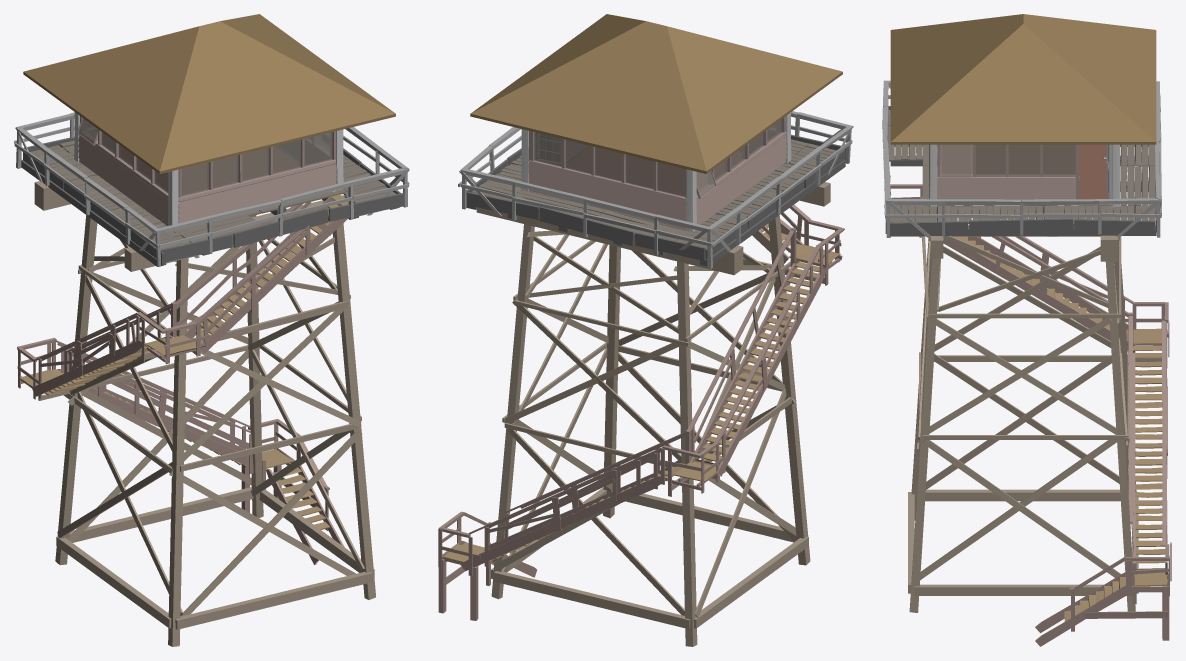
Rendered from torreDefinitivaFix.fbx.
3 views of the same model, side by side, from view 1: azimuth 30°, elevation 25°; view 2: azimuth 150°, elevation 25°; view 3: azimuth 270°, elevation 25° (orthographic). The views are drawn at different scales.
Visible parts, largest first — view 1: pCube42, Barana, polySurface151, w__3_2, w__3_1, Escales, w__3_3, TerraInside, pCube37, w__3_4, pCube83, pCube291 (×2) (+44 smaller); view 2: pCube42, Barana, polySurface151, w__3_3, w__3_4, Escales, w__3_2, TerraInside, pCube83, w__3_1, pCube242, pCube110 (+42 smaller); view 3: pCube42, polySurface151, Escales, Barana, TerraInside, w__3_1, w__3_4, pCube84, pCube85, pCube192, pCube200, pCube183 (+38 smaller).
Boxes of the visible parts, <box> form: pCube42: <box>23,14,395,173</box>; Barana: <box>14,112,409,266</box>; polySurface151: <box>30,138,396,249</box>; w__3_2: <box>168,258,188,646</box>; w__3_1: <box>332,223,375,599</box>; Escales: <box>44,194,348,533</box>; w__3_3: <box>55,215,97,565</box>; TerraInside: <box>122,146,298,194</box>; pCube37: <box>175,571,372,629</box>; w__3_4: <box>246,215,263,517</box>; pCube83: <box>69,487,253,542</box>; pCube291 (×2): <box>78,135,336,208</box>; pCube42: <box>470,14,842,173</box>; Barana: <box>458,111,853,269</box>; polySurface151: <box>472,139,836,249</box>; w__3_3: <box>677,261,697,646</box>; w__3_4: <box>491,224,534,599</box>; Escales: <box>462,223,819,562</box>; w__3_2: <box>768,215,810,565</box>; TerraInside: <box>567,147,741,195</box>; pCube83: <box>493,571,690,628</box>; w__3_1: <box>603,245,620,518</box>; pCube242: <box>460,476,667,570</box>; pCube110: <box>476,208,743,275</box>; pCube42: <box>890,14,1156,144</box>; polySurface151: <box>888,110,1155,224</box>; Escales: <box>894,205,1165,621</box>; Barana: <box>882,80,1161,237</box>; TerraInside: <box>937,144,1108,199</box>; w__3_1: <box>909,218,940,612</box>; w__3_4: <box>1105,261,1135,611</box>; pCube84: <box>925,489,1120,501</box>; pCube85: <box>914,584,1132,595</box>; pCube192: <box>922,440,1120,577</box>; pCube200: <box>920,440,1116,579</box>; pCube183: <box>969,218,1073,235</box>.
Bounding box in the file's own units: 8.81 × 17.93 × 8.4.
